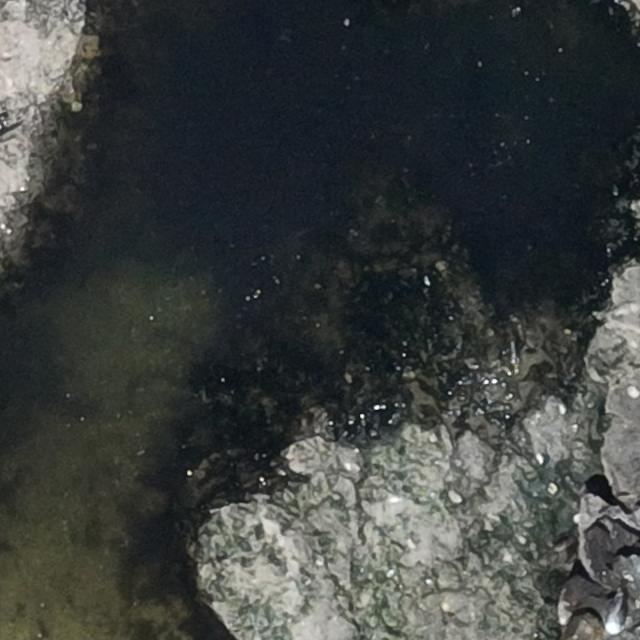umineko: (606, 606, 624, 634)
